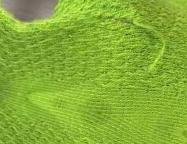snag: (130, 16, 170, 78)
